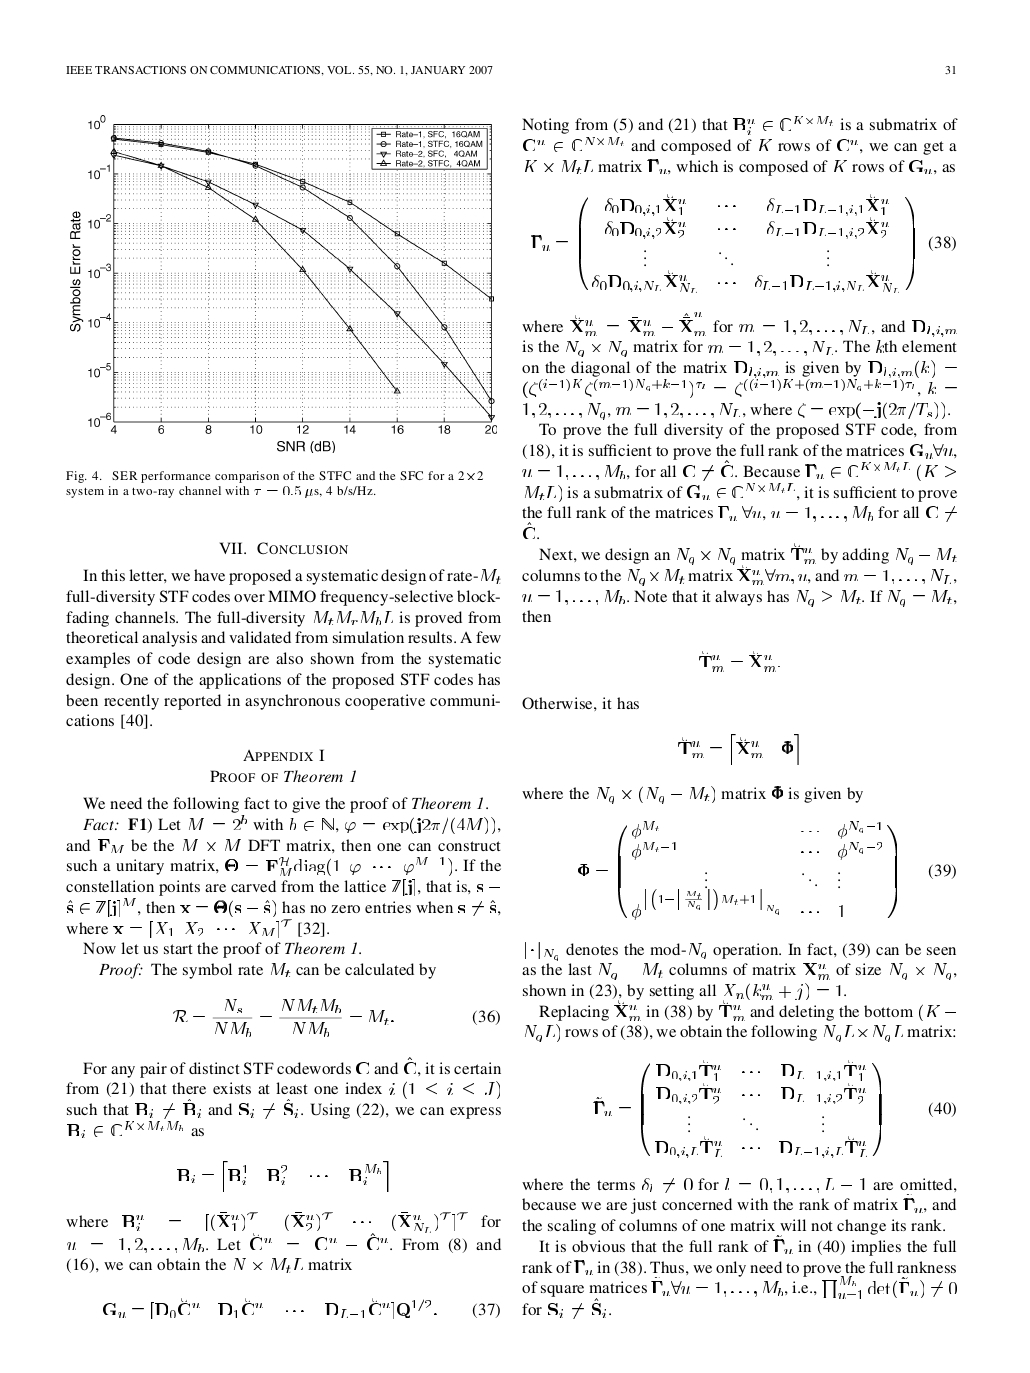figure: (70, 115, 496, 452)
formula: (531, 194, 955, 292), (578, 820, 955, 920), (593, 1059, 955, 1158), (173, 998, 499, 1037), (103, 1297, 499, 1319), (177, 1160, 388, 1192), (678, 732, 798, 765), (699, 650, 779, 672)
